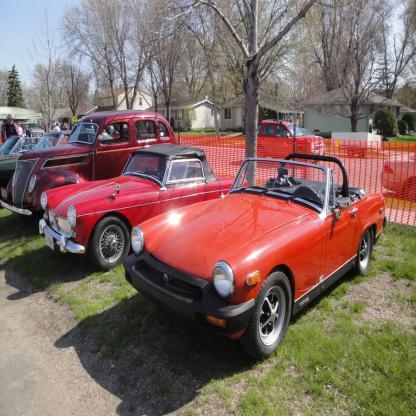car: (118, 149, 394, 373), (38, 140, 253, 272), (3, 107, 184, 217), (1, 131, 113, 188), (253, 115, 324, 168)
